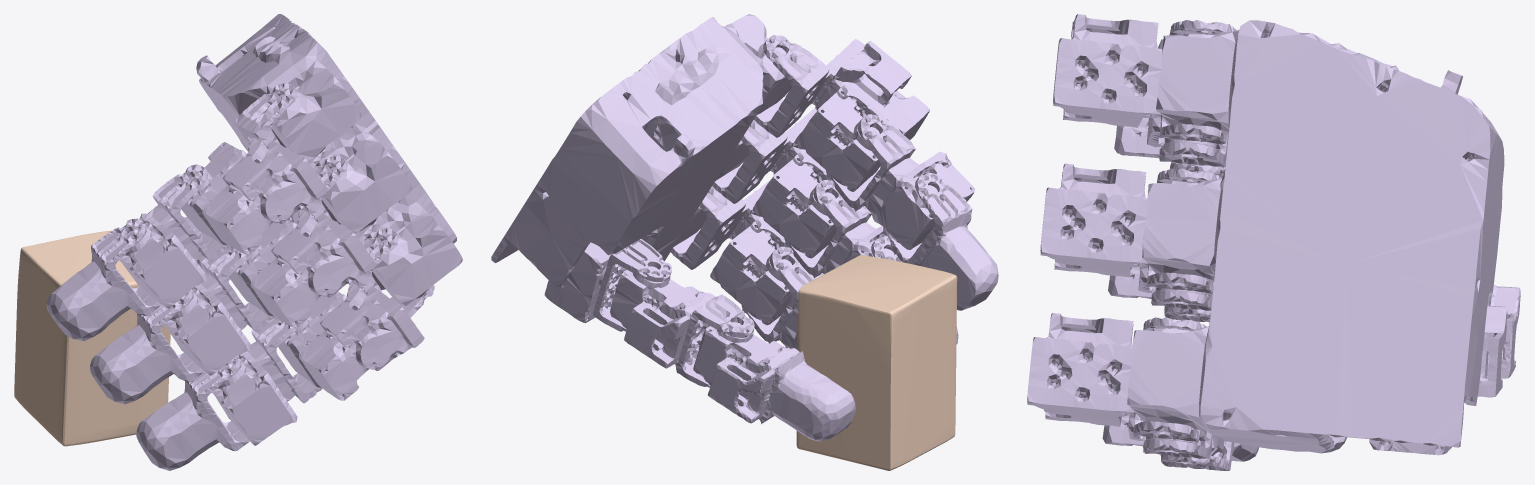
The picture shows the model from 3 angles, left to right: view 1: azimuth 30°, elevation 25°; view 2: azimuth 150°, elevation 25°; view 3: azimuth 270°, elevation 25°; orthographic projection. The views are drawn at different scales.
Parts seen in each view (by area): view 1: LEAP_hand, world; view 2: LEAP_hand, world; view 3: LEAP_hand.
Boxes of the visible parts, left/top/right/bottom form: LEAP_hand: left=46, top=14, right=462, bottom=470; world: left=14, top=230, right=170, bottom=446; LEAP_hand: left=491, top=14, right=998, bottom=441; world: left=796, top=255, right=957, bottom=470; LEAP_hand: left=1027, top=14, right=1520, bottom=470.
Size of the model in its own units: 0.2109 by 0.1831 by 0.149.
